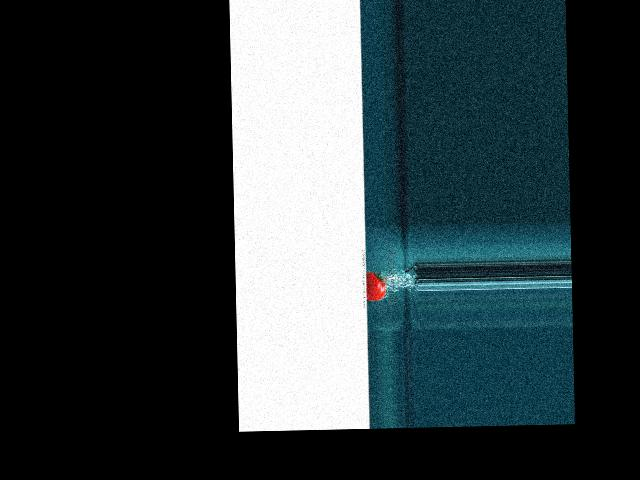tomato: (365, 271, 386, 300)
